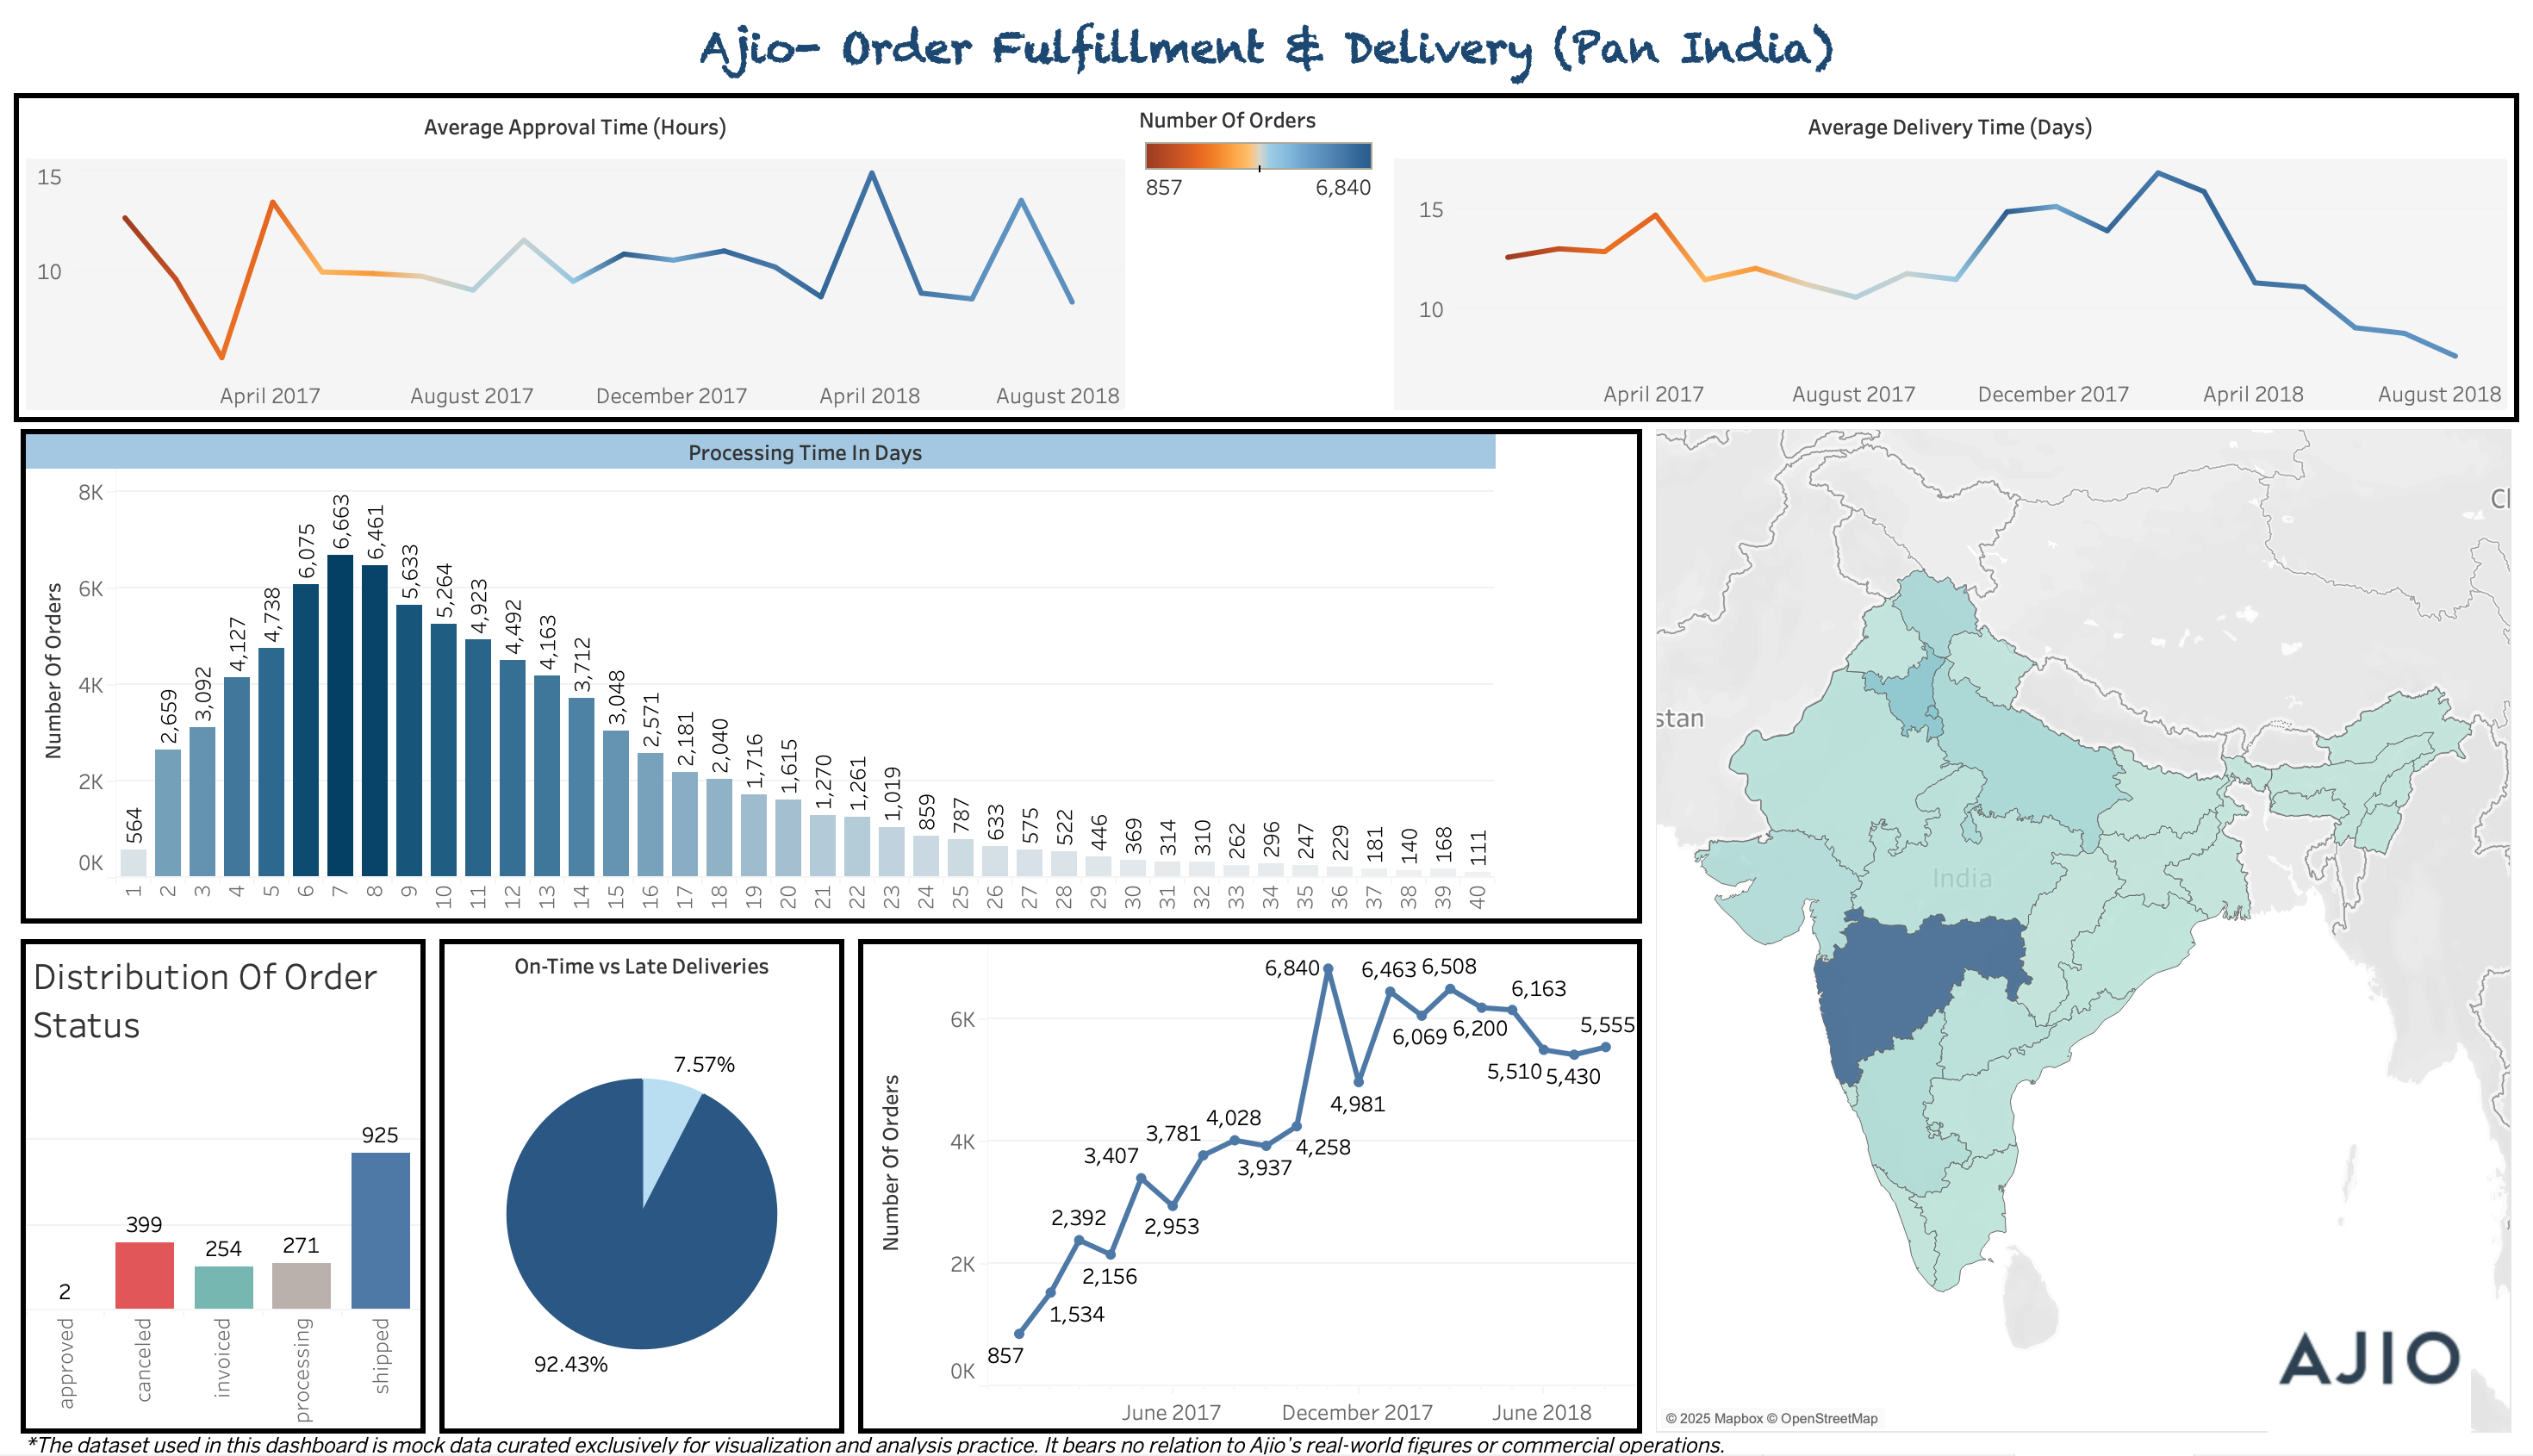

The page's visual inventory and layout, read from the dashboard file:
{"tool":"tableau","page":{"name":"Dashboard 1","canvas":[1000,1000],"units":"permille","ordinal":0},"visuals":[{"type":"title","box":[6.3,10.2,987.5,60.9]},{"type":"worksheet","title":"Average Time From Purchase to Approval","mark":"Automatic","rows":["Calculation_5476447522472079362"],"cols":["order_purchase_timestamp"],"box":[8.6,74.8,430.3,217.1]},{"type":"legend","title":"Average Time From Purchase to Delivery","param":"[federated.1xjlkfn1onznxv16r5ejc0q94ss2].[usr:Calculation_5476447522477670403:qk","box":[438.9,74.8,115.9,217.1]},{"type":"worksheet","title":"Average Time From Purchase to Delivery","mark":"Automatic","rows":["Calculation_5476447522472079362 1"],"cols":["order_purchase_timestamp"],"box":[554.8,74.8,436.6,217.1]},{"type":"worksheet","title":"Avg Time From Order Purchase to Delivery","mark":"Automatic","rows":["Calculation_5476447522477670403"],"cols":["Order Processing Time In Days (bin)"],"box":[6.3,295.8,644.3,347]},{"type":"worksheet","title":"Orders Placed By State","mark":"Automatic","box":[650.5,295.8,343.2,694.1]},{"type":"worksheet","title":"Distribution of Order Status","mark":"Automatic","rows":["Calculation_5476447522477670403"],"cols":["order_status"],"box":[6.3,642.8,165,347]},{"type":"worksheet","title":"On-TIme vs Late","mark":"Pie","box":[171.3,642.8,165.1,347]},{"type":"worksheet","title":"Monthly Order Volume","mark":"Automatic","rows":["Calculation_5476447522477670403"],"cols":["order_purchase_timestamp"],"box":[336.4,642.8,314.1,347]},{"type":"image","param":"Image/583bf1744b9419813a94323c68f23df9.jpg","box":[895.1,864.2,96.1,138.3]}]}

Visuals, with their boxes on the dashboard's canvas, which has no fixed pixel size, in thousandths of its width and height (x1, y1, x2, y2). These are canvas units, not pixel positions in the 2533x1456 screenshot, which may show the page scaled, cropped or inside an application window:
title: x1=6, y1=10, x2=994, y2=71
"Average Time From Purchase to Approval" worksheet: x1=9, y1=75, x2=439, y2=292
"Average Time From Purchase to Delivery" legend: x1=439, y1=75, x2=555, y2=292
"Average Time From Purchase to Delivery" worksheet: x1=555, y1=75, x2=991, y2=292
"Avg Time From Order Purchase to Delivery" worksheet: x1=6, y1=296, x2=651, y2=643
"Orders Placed By State" worksheet: x1=650, y1=296, x2=994, y2=990
"Distribution of Order Status" worksheet: x1=6, y1=643, x2=171, y2=990
"On-TIme vs Late" worksheet (Pie marks): x1=171, y1=643, x2=336, y2=990
"Monthly Order Volume" worksheet: x1=336, y1=643, x2=650, y2=990
image: x1=895, y1=864, x2=991, y2=1002
